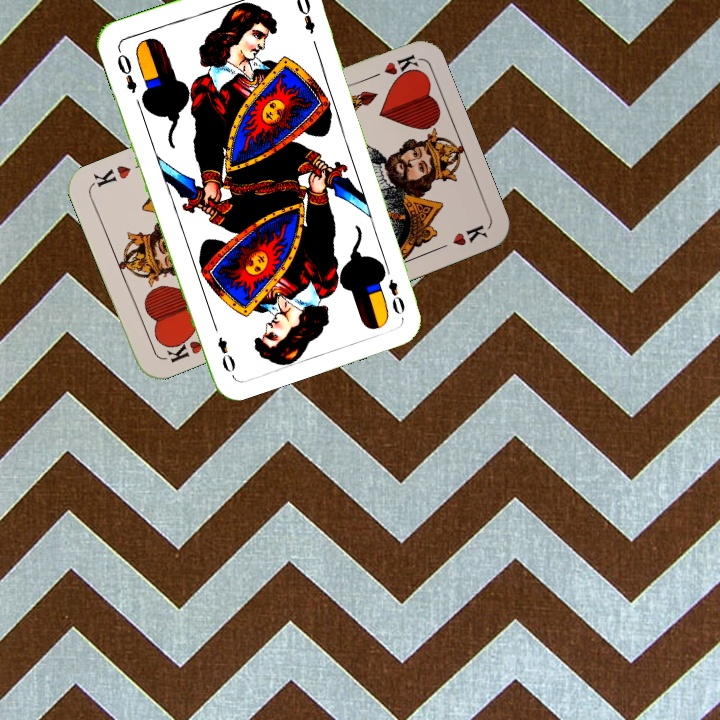EO: (378, 261, 408, 317), (113, 45, 140, 96)
HK: (361, 51, 419, 84), (159, 330, 206, 365)
